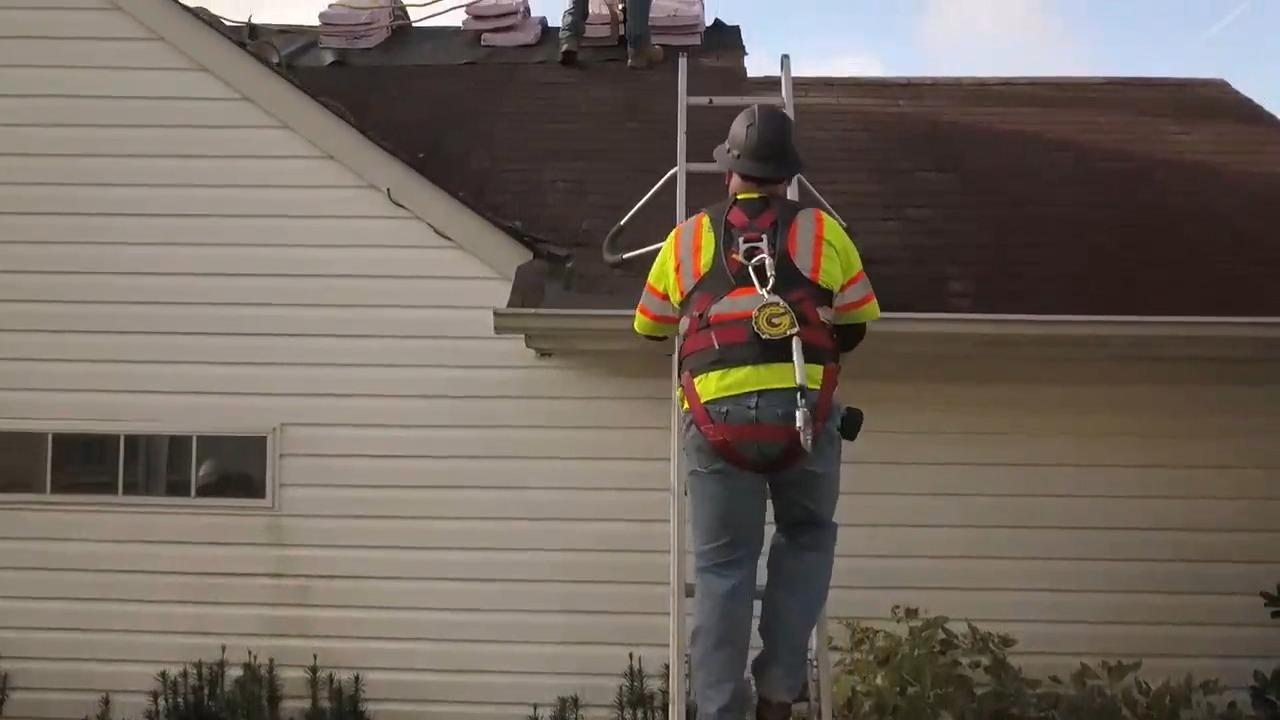Helmet: (711, 102, 803, 181)
Person: (612, 74, 869, 720)
Safety Vest: (684, 236, 832, 397)
